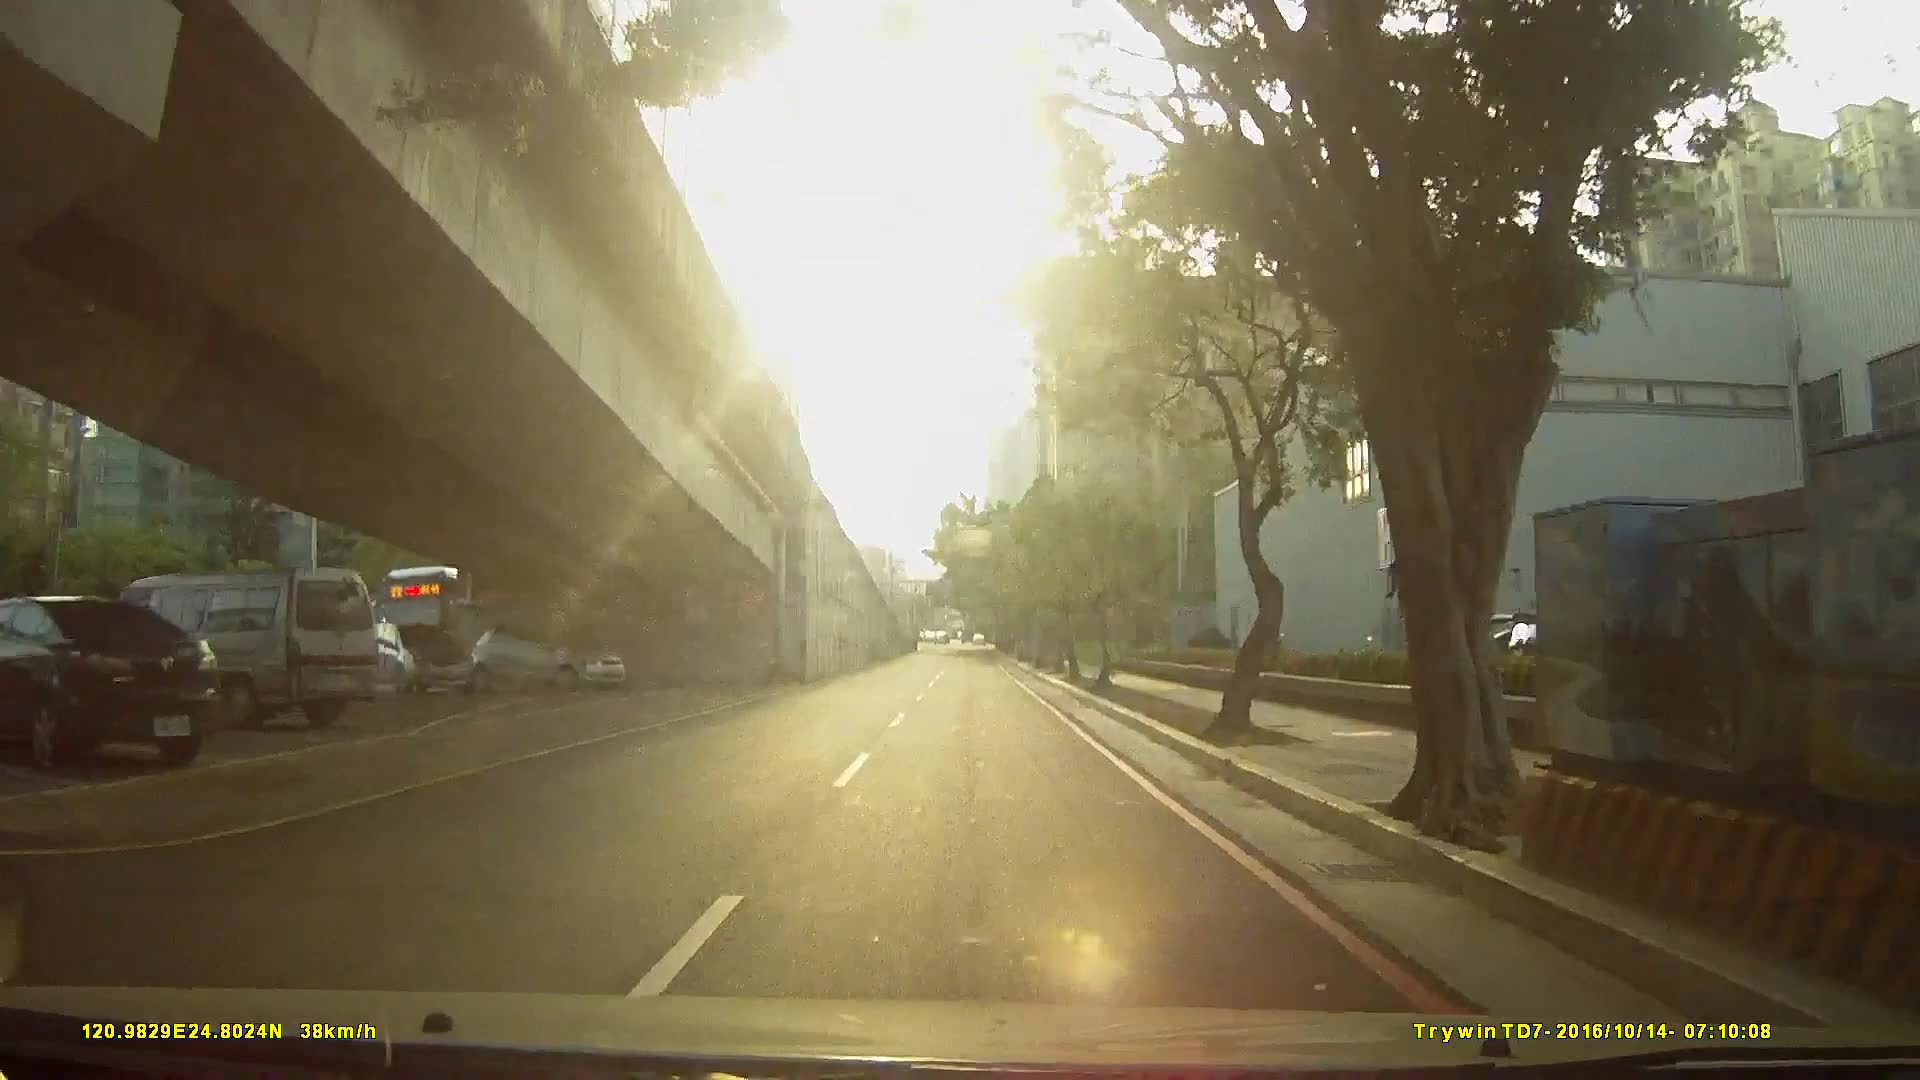vehicle: (76, 564, 368, 737), (1, 589, 252, 775), (364, 563, 558, 688), (462, 621, 625, 696), (349, 618, 472, 698)
